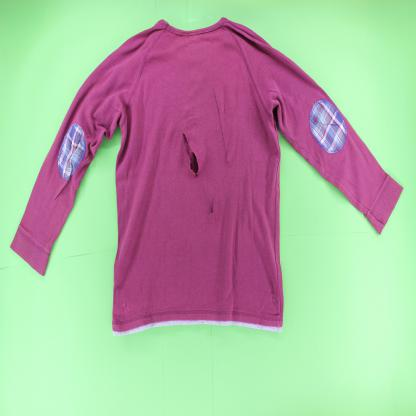hole: (209, 81, 232, 169), (179, 128, 203, 181)
